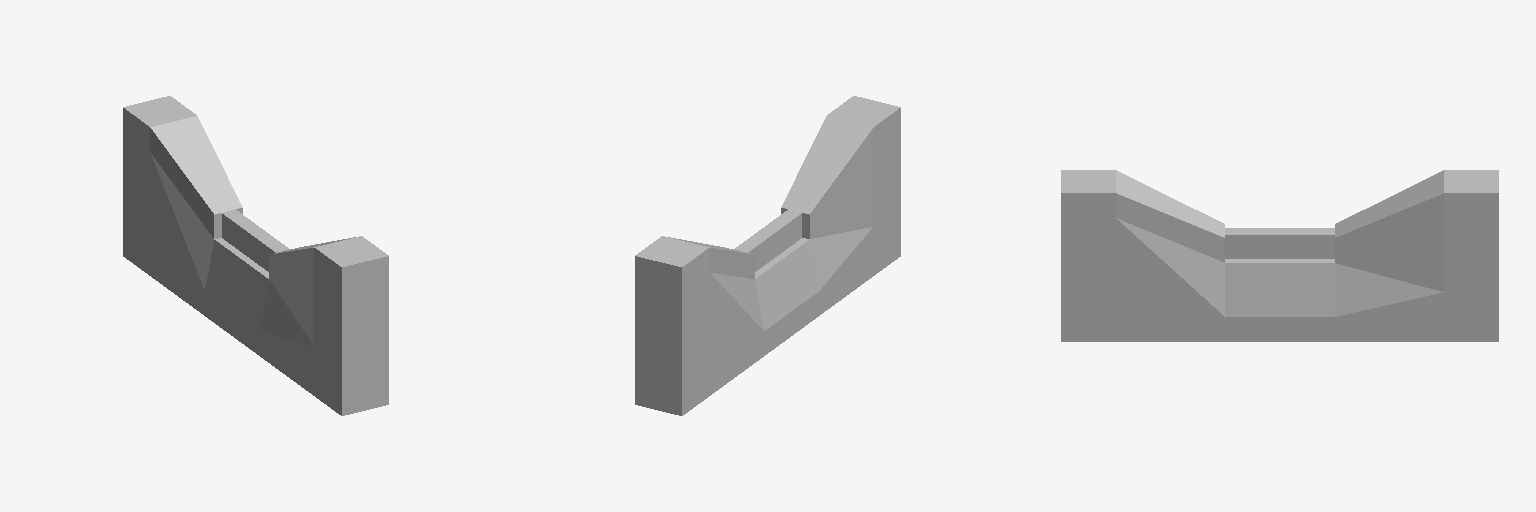
The model's file is doorstiny down.obj.
3 renders of one model, left to right at view 1: azimuth 30°, elevation 25°; view 2: azimuth 150°, elevation 25°; view 3: azimuth 270°, elevation 25°, orthographic.
Visible parts, largest first — view 1: Cube.001; view 2: Cube.001; view 3: Cube.001.
Boxes of the visible parts, <box> form: Cube.001: <box>123,96,388,415</box>; Cube.001: <box>635,96,900,415</box>; Cube.001: <box>1061,170,1498,341</box>.
Size of the model in its own units: 1 by 3 by 8.